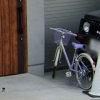bicycles: (46, 28, 98, 92)
